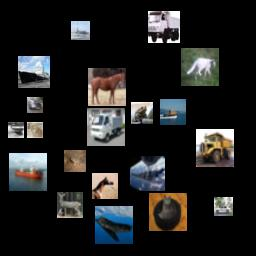airplane: (95, 206, 133, 244), (130, 156, 165, 191), (71, 21, 90, 40)
automobile: (214, 197, 233, 216), (27, 97, 43, 113)
cat: (149, 193, 187, 231), (181, 48, 219, 86), (27, 122, 43, 138)
deer: (57, 192, 83, 218)
frog: (131, 102, 153, 124), (64, 150, 86, 172)
ship: (9, 153, 47, 191), (18, 56, 50, 88), (160, 99, 186, 125), (8, 122, 24, 138)
truck: (87, 108, 125, 146), (196, 129, 234, 167), (148, 11, 180, 43)
